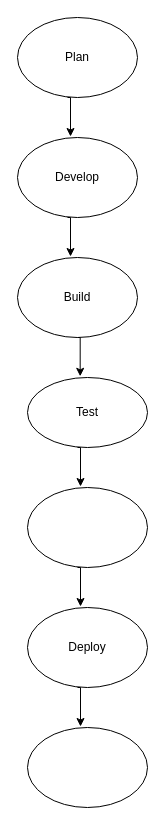
This 165x825 diagram has some shape labels left out. Each missing label, with the centre of its shape:
Monitor: pixel 87 767
Release: pixel 87 527
